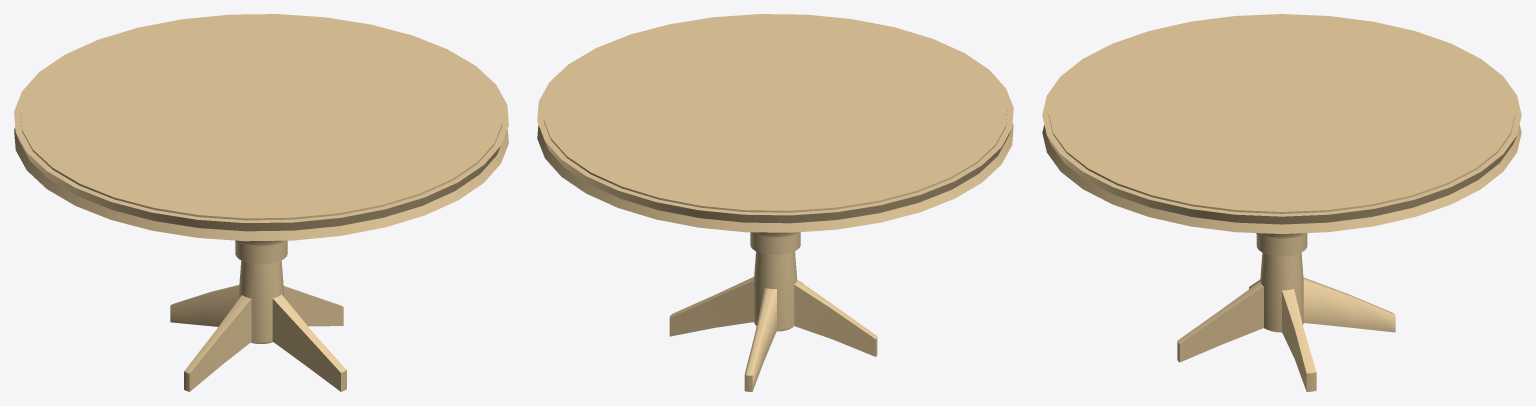
The model's file is dining table.fbx.
3 views of the same model, side by side, from view 1: azimuth 30°, elevation 25°; view 2: azimuth 150°, elevation 25°; view 3: azimuth 270°, elevation 25° (orthographic). The views are drawn at different scales.
Parts seen in each view (by area): view 1: Cylinder.008; view 2: Cylinder.008; view 3: Cylinder.008.
Boxes of the visible parts, x1,y1,x2,y2 form: Cylinder.008: [14, 14, 508, 391]; Cylinder.008: [537, 14, 1013, 391]; Cylinder.008: [1042, 14, 1521, 391].
Size of the model in its own units: 147 by 78.99 by 147.
